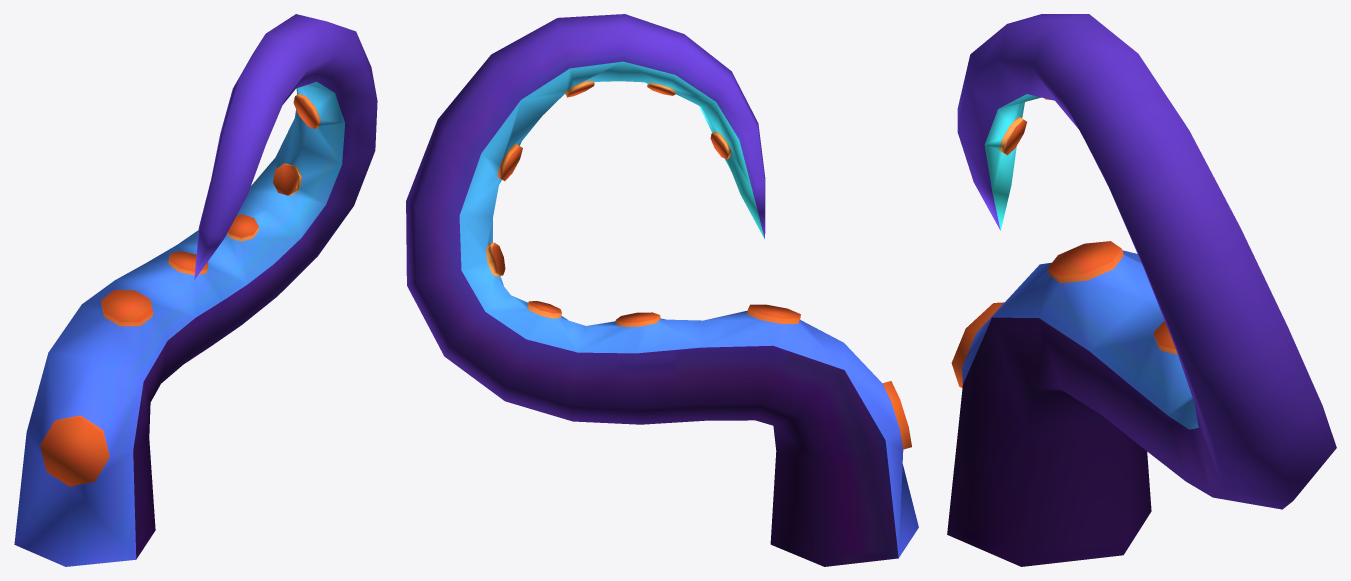
The model's file is 521e7d1d-e657-4ece-bc39-f466fe4087c3.glb.
3 views of the same model, side by side, from view 1: azimuth 30°, elevation 25°; view 2: azimuth 150°, elevation 25°; view 3: azimuth 270°, elevation 25° (orthographic). The views are drawn at different scales.
Visible parts, largest first — view 1: Tentacle01; view 2: Tentacle01; view 3: Tentacle01.
Boxes of the visible parts, bbox=[...] form: Tentacle01: bbox=[14, 14, 377, 566]; Tentacle01: bbox=[406, 14, 918, 566]; Tentacle01: bbox=[947, 14, 1336, 566].
Bounding box in the file's own units: 13.81 × 14.33 × 7.82.
Materials: 1 (1 with a texture image).
